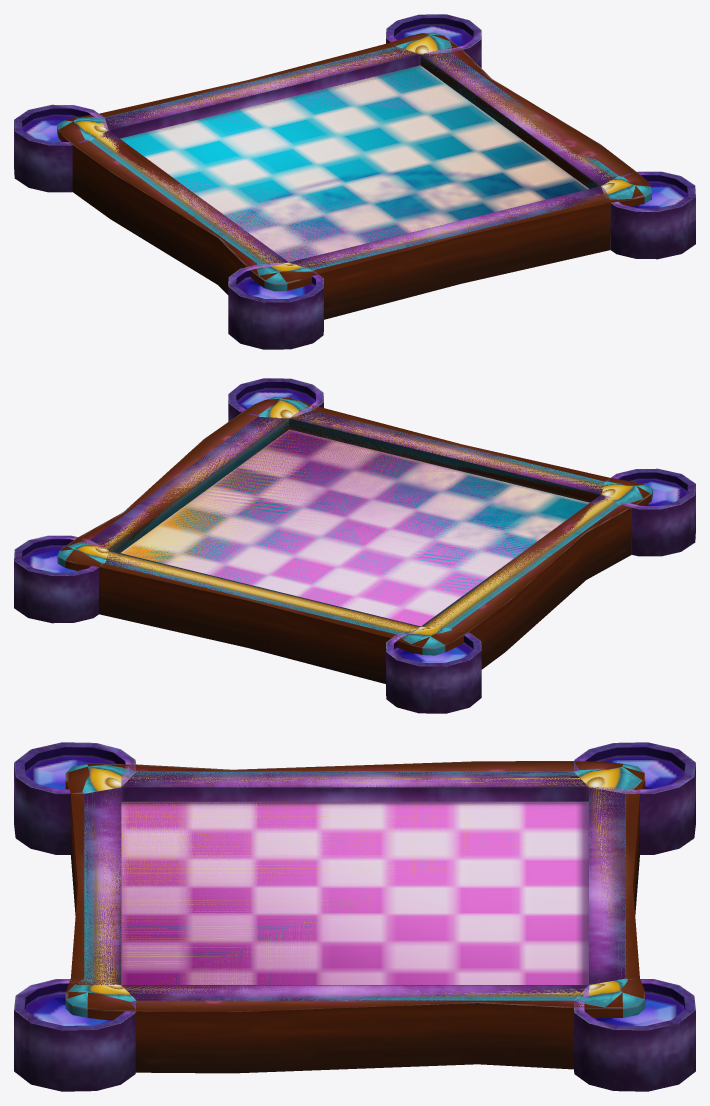
The model's file is Tableros.FBX.
3 views of the same model, one above another, from view 1: azimuth 30°, elevation 25°; view 2: azimuth 150°, elevation 25°; view 3: azimuth 270°, elevation 25° (orthographic). The views are drawn at different scales.
Parts seen in each view (by area): view 1: Tablero_02, Tablero_01, Tablero_03; view 2: Tablero_01, Tablero_02, Tablero_03; view 3: Tablero_01, Tablero_03, Tablero_02.
Boxes of the visible parts, x1=… form: Tablero_02: x1=57, y1=32, x2=651, y2=291; Tablero_01: x1=14, y1=14, x2=695, y2=349; Tablero_03: x1=58, y1=33, x2=650, y2=319; Tablero_01: x1=14, y1=378, x2=695, y2=713; Tablero_02: x1=57, y1=396, x2=652, y2=655; Tablero_03: x1=59, y1=397, x2=651, y2=683; Tablero_01: x1=14, y1=742, x2=695, y2=1091; Tablero_03: x1=65, y1=761, x2=645, y2=1073; Tablero_02: x1=65, y1=763, x2=644, y2=1017.
Size of the model in its own units: 516 by 56.59 by 516.
1 material, 1 textured.
